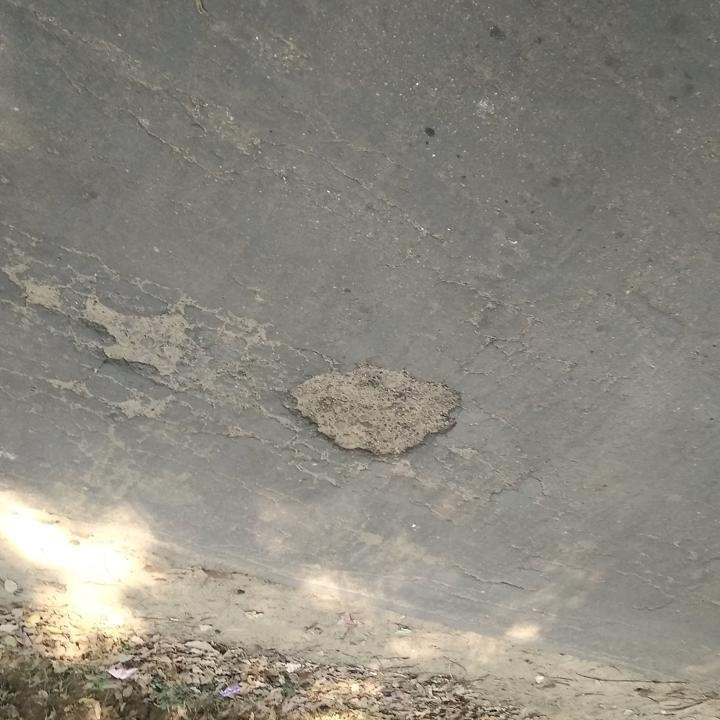pothole: (286, 361, 465, 462), (81, 290, 196, 381)
